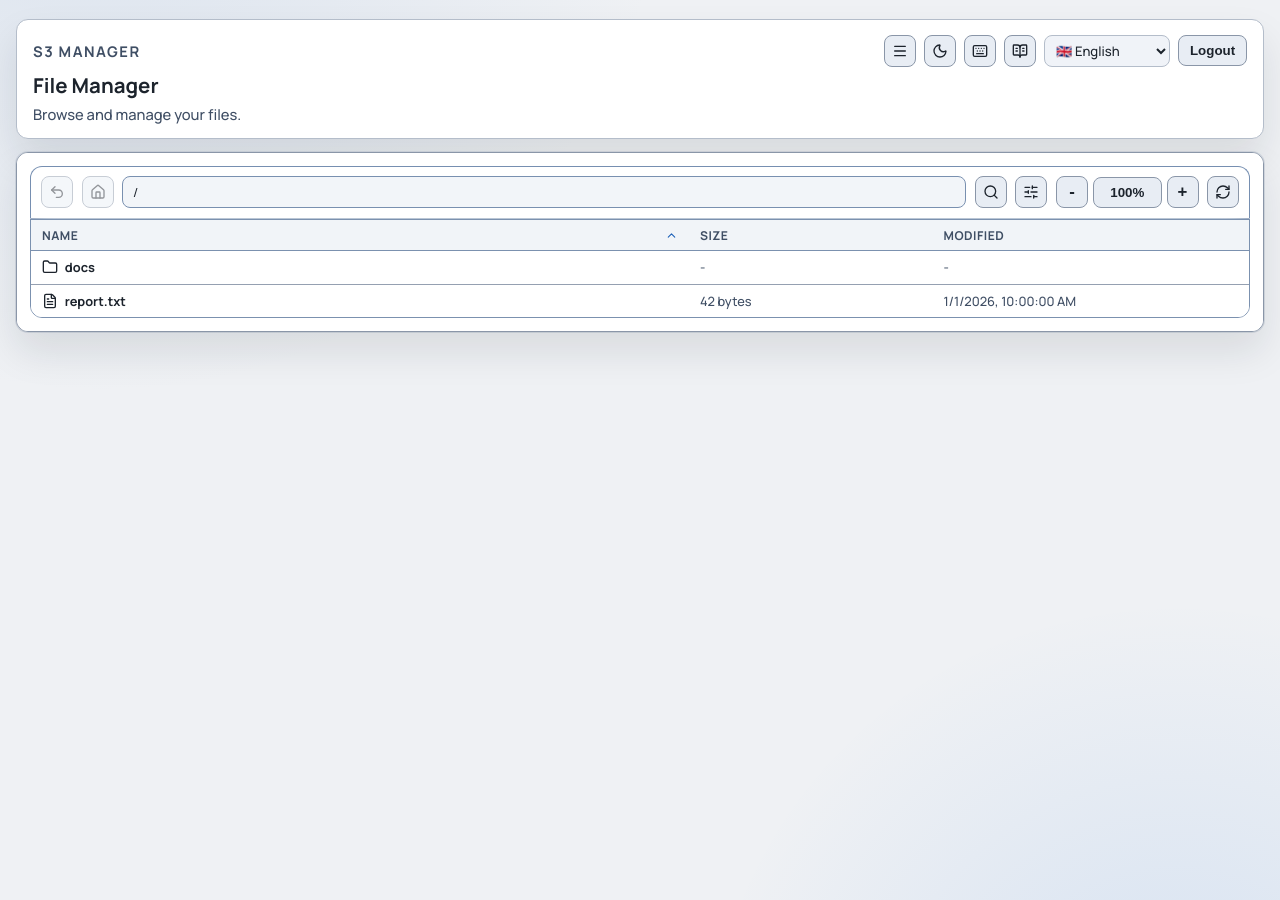
Browser parity interactions › shows View but hides Edit for view-only users on text files
Right-click the text "report.txt": x=95, y=301 top-left (65, 292), bottom-right (126, 310)
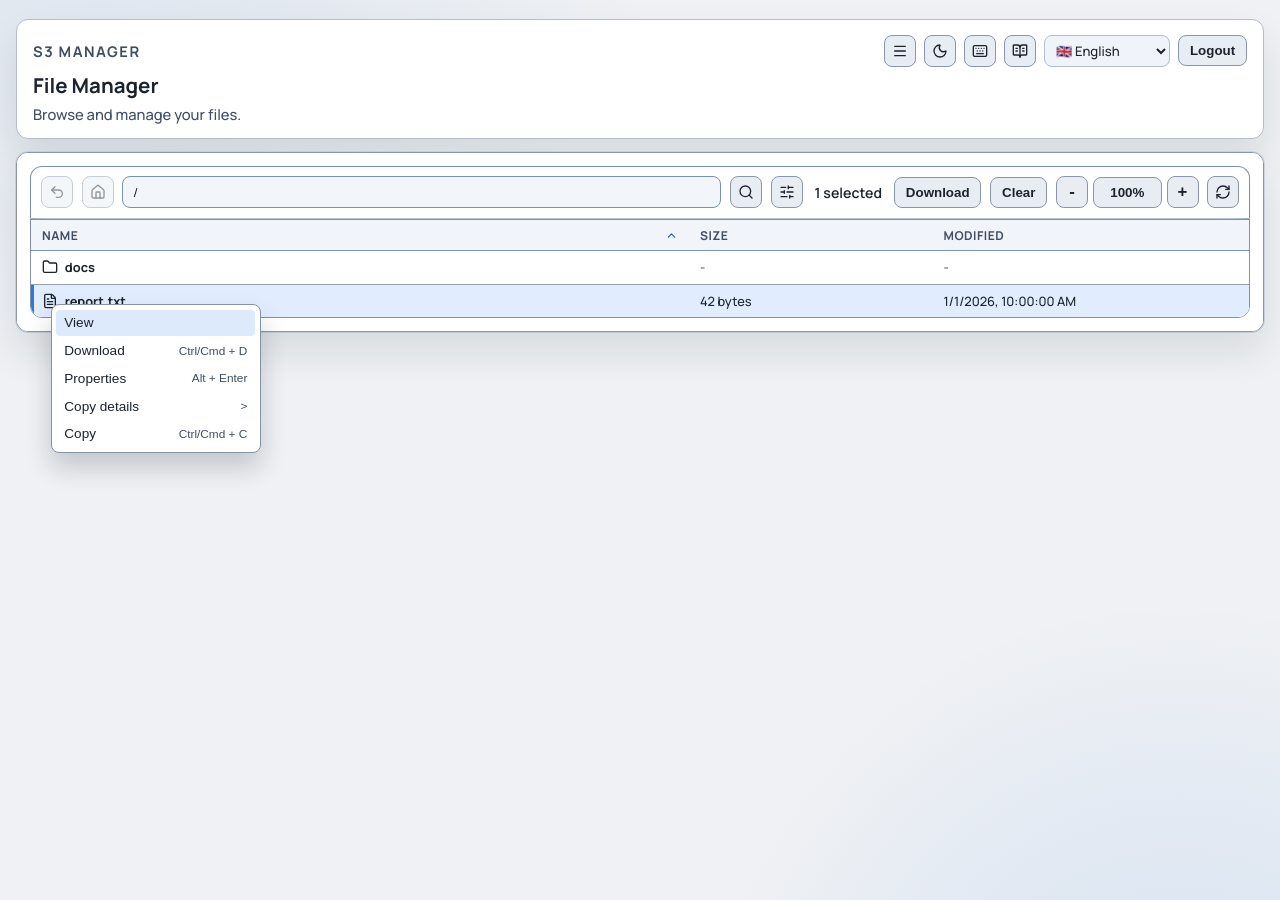
expect the text "View" is shown: met, box top-left (64, 315), bottom-right (94, 330)
